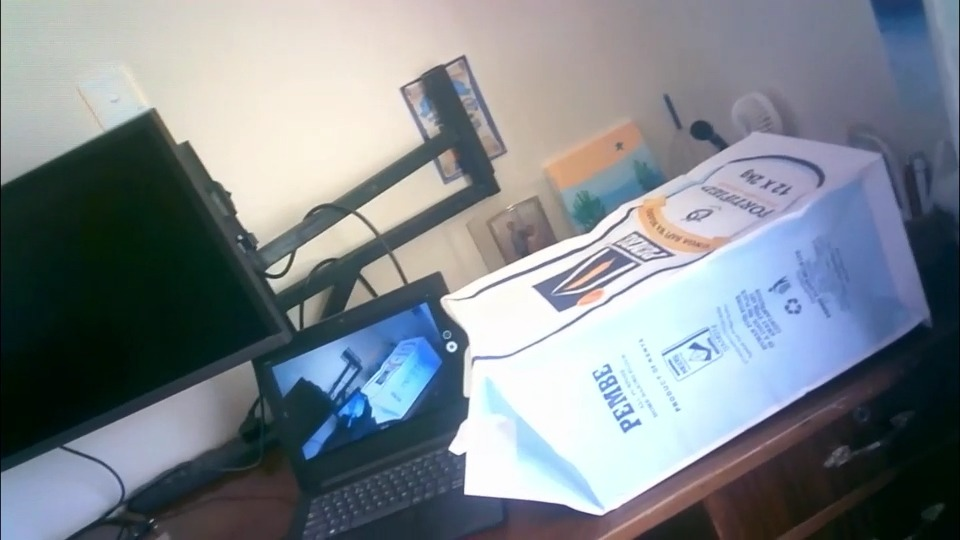wheat_flour_blue_label: (440, 138, 929, 489)
